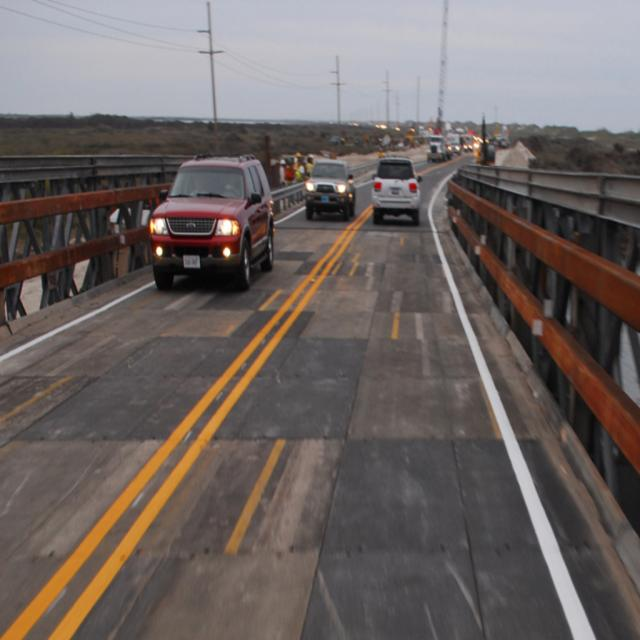other: (139, 153, 273, 289), (304, 154, 354, 226), (369, 154, 419, 223), (426, 130, 476, 162)
